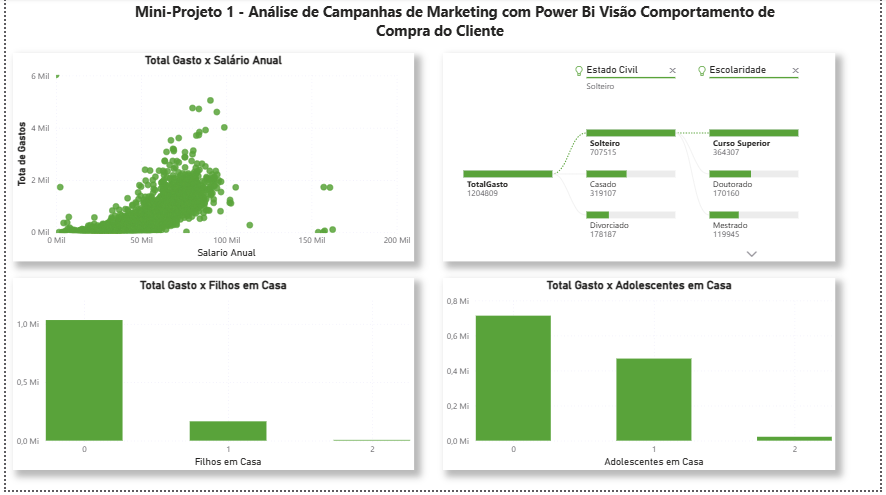

The page's visual inventory and layout, read from the dashboard file:
{"tool":"powerbi","page":{"name":"Visão Comportamento","canvas":[1280,720],"ordinal":1},"visuals":[{"type":"scatterChart","title":"Total Gasto x Salário Anual","fields":{"X":["DadosMarketing.Salario Anual"],"Y":["DadosMarketing.TotalGasto"]},"box":[10.7,81,586.5,305.5],"z":0},{"type":"clusteredColumnChart","title":"Total Gasto x Filhos em Casa","fields":{"Y":["DadosMarketing.TotalGasto"],"Category":["DadosMarketing.Filhos em Casa"]},"box":[10.7,409.4,586.5,281.1],"z":1000},{"type":"clusteredColumnChart","title":"Total Gasto x Adolescentes em Casa","fields":{"Category":["DadosMarketing.Adolescentes em Casa"],"Y":["DadosMarketing.TotalGasto"]},"box":[640,409.4,574.3,281.1],"z":2000},{"type":"decompositionTreeVisual","fields":{"Analyze":["DadosMarketing.TotalGasto"],"ExplainBy":["DadosMarketing.Estado Civil","DadosMarketing.Escolaridade"]},"box":[640,81,574.3,305.5],"z":3000},{"type":"textbox","box":[99.3,0,1070.7,67.2],"z":4000}]}

Visuals, with their boxes in screenshot pixels (x1, y1, x2, y2), scaled from the page's 1280x720 canvas onto the 886x495 screenshot:
"Total Gasto x Salário Anual" scatterChart: x1=7 y1=56 x2=413 y2=266
"Total Gasto x Filhos em Casa" clusteredColumnChart: x1=7 y1=281 x2=413 y2=475
"Total Gasto x Adolescentes em Casa" clusteredColumnChart: x1=443 y1=281 x2=841 y2=475
decompositionTreeVisual - DadosMarketing.TotalGasto x DadosMarketing.Estado Civil: x1=443 y1=56 x2=841 y2=266
textbox: x1=69 y1=0 x2=810 y2=46
